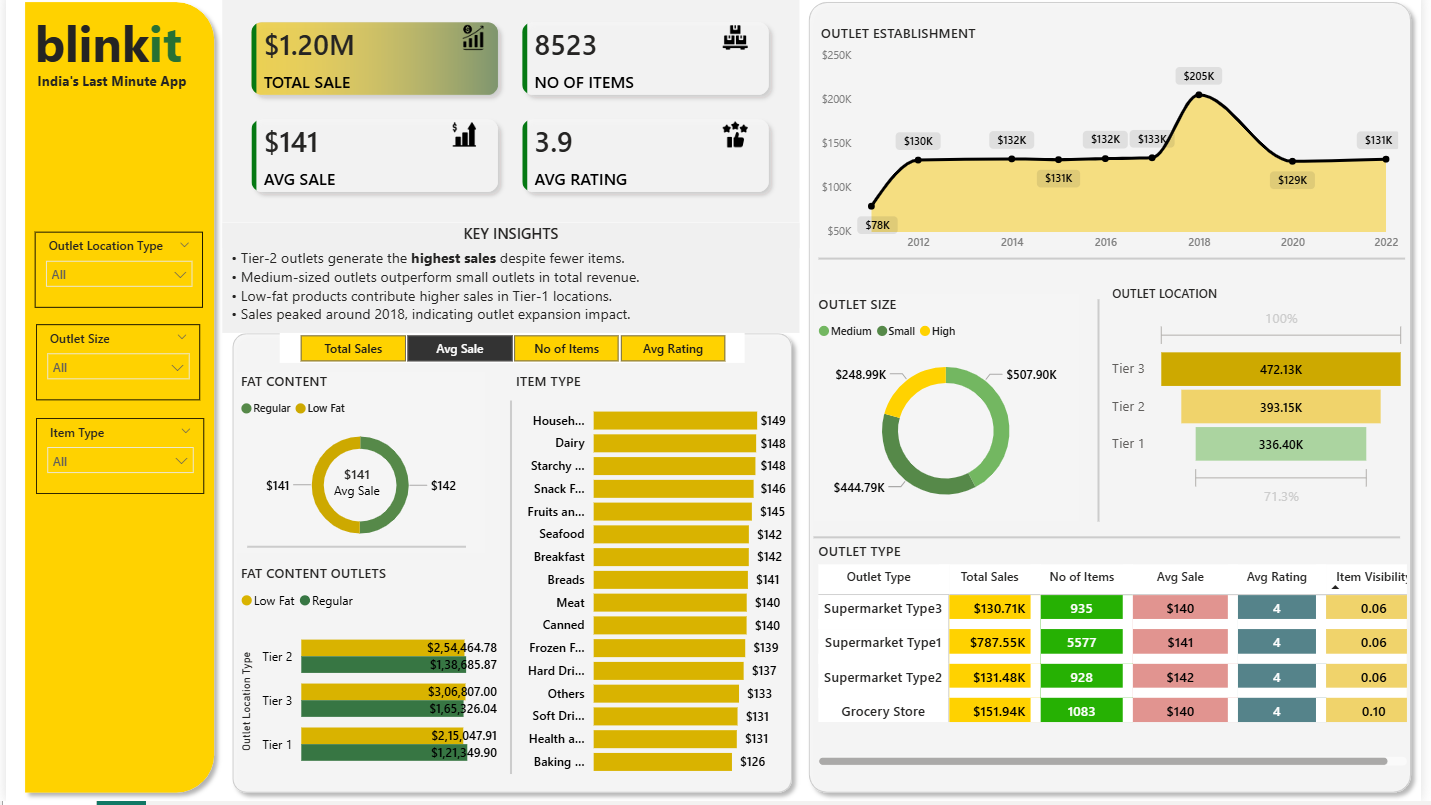

What the dashboard file says about the page in this screenshot:
{"tool":"powerbi","page":{"name":"Page 1","canvas":[1400,800],"ordinal":0},"visuals":[{"type":"shape","box":[9.4,0,205.1,800.3],"z":0},{"type":"textbox","box":[9.4,10.7,182.3,81.8],"z":1000},{"type":"textbox","box":[18.8,72.4,172.9,46.9],"z":2000},{"type":"cardVisual","fields":{"Data":["BlinkIT Grocery Data (2).Total Sales","BlinkIT Grocery Data (2).No of Items","BlinkIT Grocery Data (2).Avg Sale","BlinkIT Grocery Data (2).Avg Rating"]},"box":[214,0,571.4,227.6],"z":3000},{"type":"shape","box":[215.2,327.8,571.4,472.5],"z":4000},{"type":"donutChart","title":"FAT CONTENT","fields":{"Y":["BlinkIT Grocery Data (2).Avg Sale"],"Category":["BlinkIT Grocery Data (2).Item Fat Content"]},"box":[227.6,374.8,246.1,179.3],"z":5000},{"type":"slicer","title":"FAT","fields":{"Values":["Matrics.Matrics"]},"box":[270.9,336.4,460.1,29.7],"z":6000},{"type":"cardVisual","fields":{"Data":["BlinkIT Grocery Data (2).Avg Sale"]},"box":[309.2,456.4,76.7,54.4],"z":7000},{"type":"clusteredBarChart","title":"FAT CONTENT OUTLETS","fields":{"Y":["BlinkIT Grocery Data (2).Avg Sale"],"Category":["BlinkIT Grocery Data (2).Outlet Location Type"],"Series":["BlinkIT Grocery Data (2).Item Fat Content"]},"box":[227.6,564,263.5,220.2],"z":8000},{"type":"shape","box":[238.7,533.1,216.5,29.7],"z":9000},{"type":"shape","box":[482.4,403.2,34.6,369.8],"z":10000},{"type":"barChart","title":"ITEM TYPE","fields":{"Y":["BlinkIT Grocery Data (2).Avg Sale"],"Category":["BlinkIT Grocery Data (2).Item Type"]},"box":[499.7,374.8,277.1,409.4],"z":11000},{"type":"shape","box":[785.5,0,613.9,800.3],"z":12000},{"type":"lineChart","title":"OUTLET ESTABLISHMENT","fields":{"Y":["BlinkIT Grocery Data (2).Total Sales"],"Category":["BlinkIT Grocery Data (2).Outlet Establishment Year"]},"box":[801.2,29.3,581.2,234],"z":13000},{"type":"shape","box":[804.3,248,580.4,30.8],"z":14000},{"type":"donutChart","title":"OUTLET SIZE","fields":{"Y":["BlinkIT Grocery Data (2).Total Sales"],"Category":["BlinkIT Grocery Data (2).Outlet Size"]},"box":[799,298.1,262.2,225.1],"z":15000},{"type":"shape","box":[1072.4,303,17.3,220.2],"z":16000},{"type":"funnel","title":"OUTLET LOCATION","fields":{"Y":["Sum(BlinkIT Grocery Data (2).Sales)"],"Category":["BlinkIT Grocery Data (2).Outlet Location Type"]},"box":[1089.7,289.4,300.6,223.9],"z":17000},{"type":"shape","box":[798.9,522.8,580.4,30.8],"z":18000},{"type":"pivotTable","title":"OUTLET TYPE","fields":{"Rows":["BlinkIT Grocery Data (2).Outlet Type"],"Values":["BlinkIT Grocery Data (2).Total Sales","BlinkIT Grocery Data (2).No of Items","BlinkIT Grocery Data (2).Avg Sale","BlinkIT Grocery Data (2).Avg Rating","Avg(BlinkIT Grocery Data (2).Item Visibility)"]},"box":[798.9,542.9,592.5,226.5],"z":19000},{"type":"slicer","fields":{"Values":["BlinkIT Grocery Data (2).Outlet Location Type"]},"box":[28,236.6,166.6,75],"z":20000},{"type":"slicer","fields":{"Values":["BlinkIT Grocery Data (2).Outlet Size"]},"box":[29.3,328.1,162.8,75],"z":21000},{"type":"slicer","fields":{"Values":["BlinkIT Grocery Data (2).Item Type"]},"box":[29.3,421,166.6,75],"z":22000},{"type":"textbox","title":"KEY INSIGHTS","box":[214,227.6,571.4,108.8],"z":23000}]}

Visuals, with their boxes in screenshot pixels (x1, y1, x2, y2), scaled from the page's 1400x800 canvas onto the 1431x805 screenshot:
shape: [10,0,219,804]
textbox: [10,11,196,93]
textbox: [19,73,196,120]
cardVisual - BlinkIT Grocery Data (2).Total Sales x BlinkIT Grocery Data (2).No of Items: [219,0,803,229]
shape: [220,330,804,804]
"FAT CONTENT" donutChart: [233,377,484,558]
"FAT" slicer: [277,339,747,368]
cardVisual - BlinkIT Grocery Data (2).Avg Sale: [316,459,394,514]
"FAT CONTENT OUTLETS" clusteredBarChart: [233,568,502,789]
shape: [244,536,465,566]
shape: [493,406,528,778]
"ITEM TYPE" barChart: [511,377,794,789]
shape: [803,0,1430,804]
"OUTLET ESTABLISHMENT" lineChart: [819,29,1413,265]
shape: [822,250,1415,281]
"OUTLET SIZE" donutChart: [817,300,1085,526]
shape: [1096,305,1114,526]
"OUTLET LOCATION" funnel: [1114,291,1421,517]
shape: [817,526,1410,557]
"OUTLET TYPE" pivotTable: [817,546,1422,774]
slicer - BlinkIT Grocery Data (2).Outlet Location Type: [29,238,199,314]
slicer - BlinkIT Grocery Data (2).Outlet Size: [30,330,196,406]
slicer - BlinkIT Grocery Data (2).Item Type: [30,424,200,499]
"KEY INSIGHTS" textbox: [219,229,803,339]
